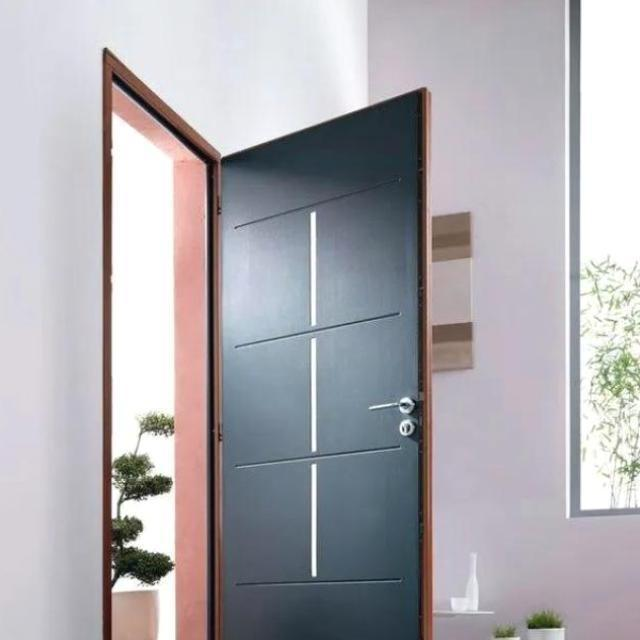door: (215, 87, 427, 638)
